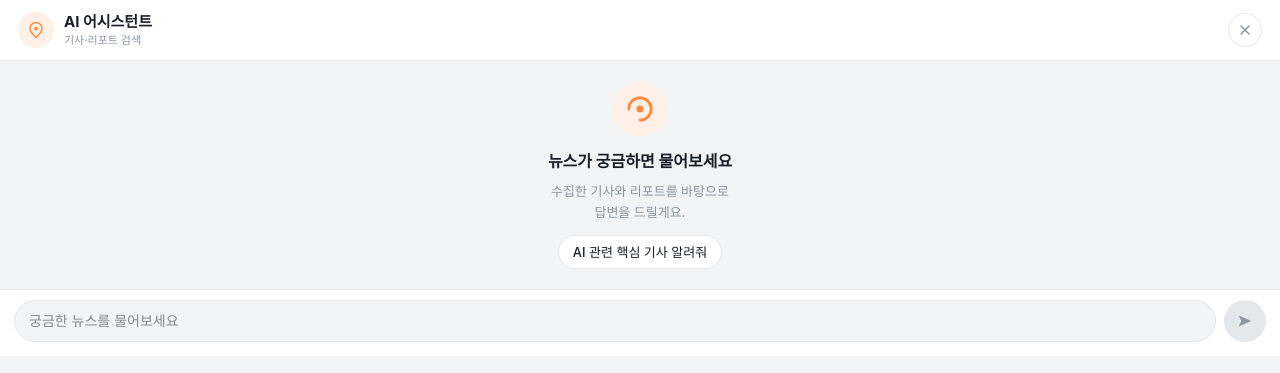
Scenario: ChatShell › clicking_suggestion_fills_input_without_submit
Click the button "AI 관련 핵심 기사 알려줘".
click(640, 252)  # box [558,235,722,270]
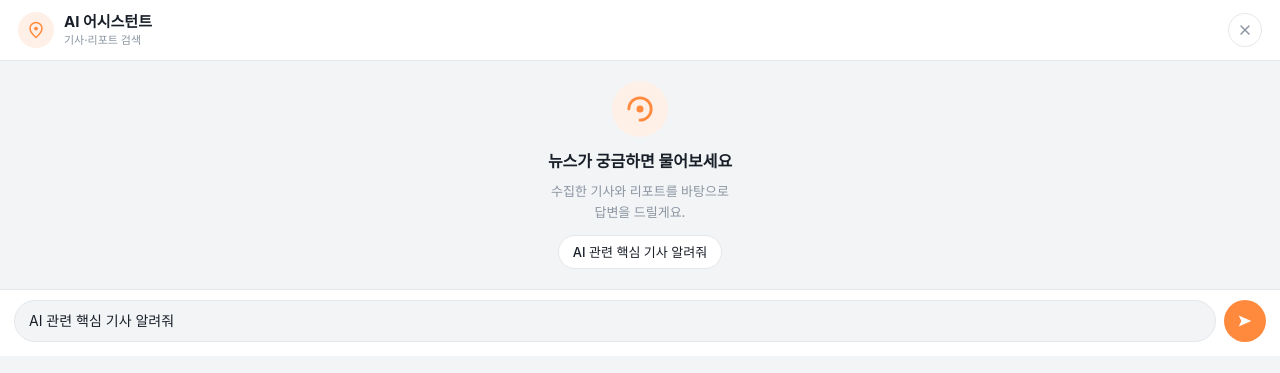
Check: the text box named "메시지 입력" holds "AI 관련 핵심 기사 알려줘", box [14,300,1216,342]
Check: the button named "보내기" is enabled, box [1224,300,1266,342]
